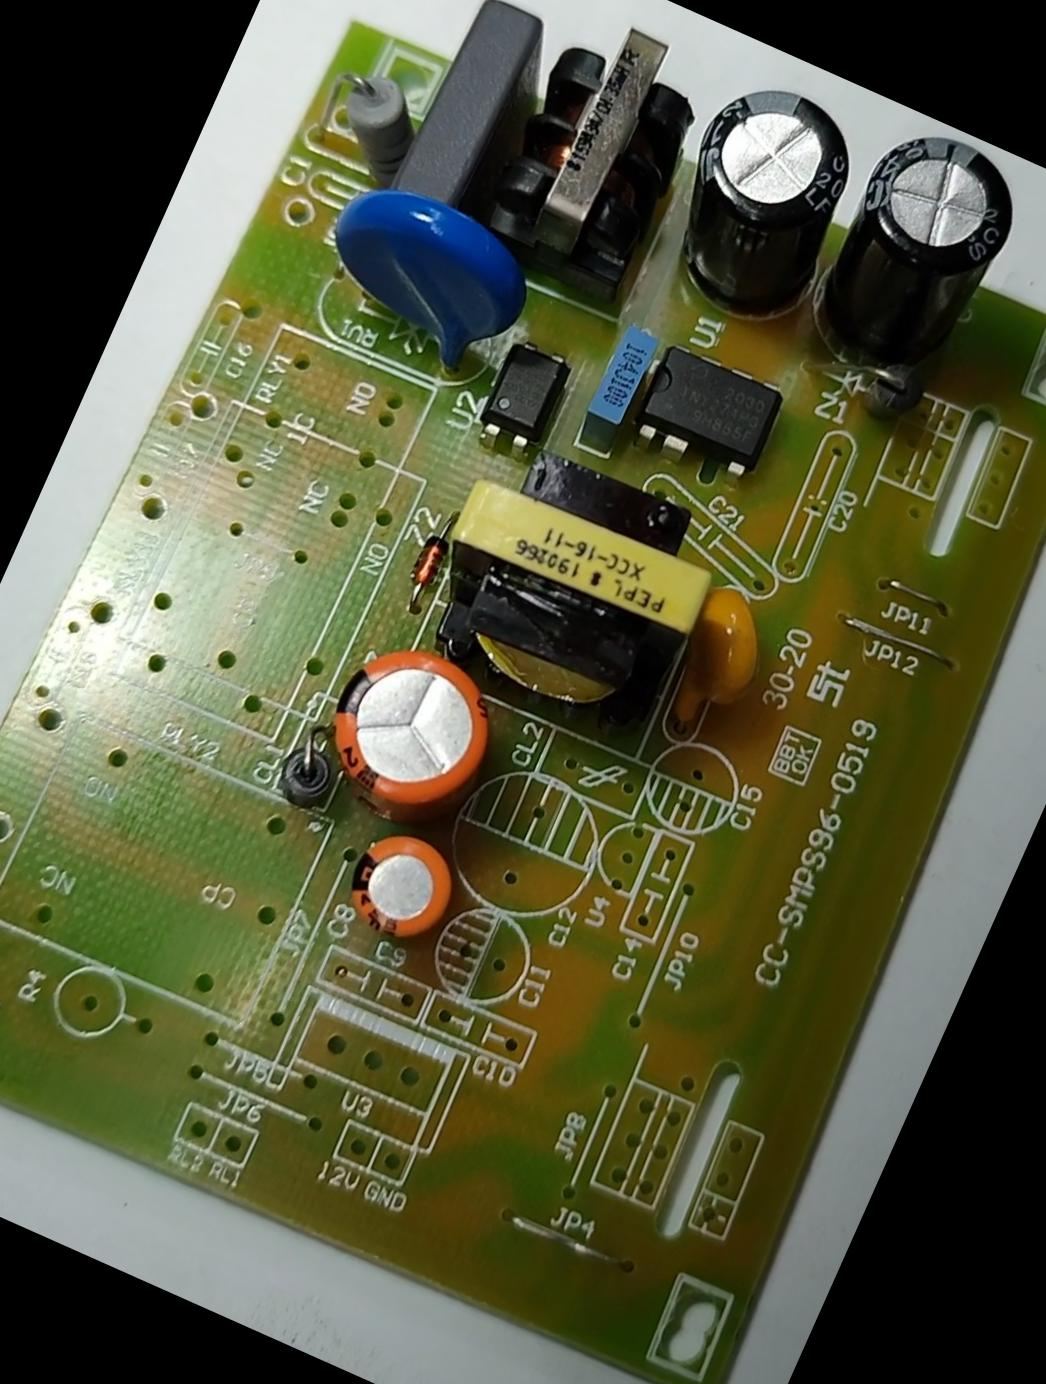Cap1: (304, 617, 515, 834)
Cap2: (331, 814, 469, 956)
Cap3: (639, 57, 882, 341)
Cap4: (798, 111, 1035, 398)
MOSFET: (623, 332, 793, 490)
Mov: (293, 160, 553, 399)
Resistor: (318, 51, 432, 178)
Transformer: (399, 423, 746, 754), (476, 0, 721, 292)
